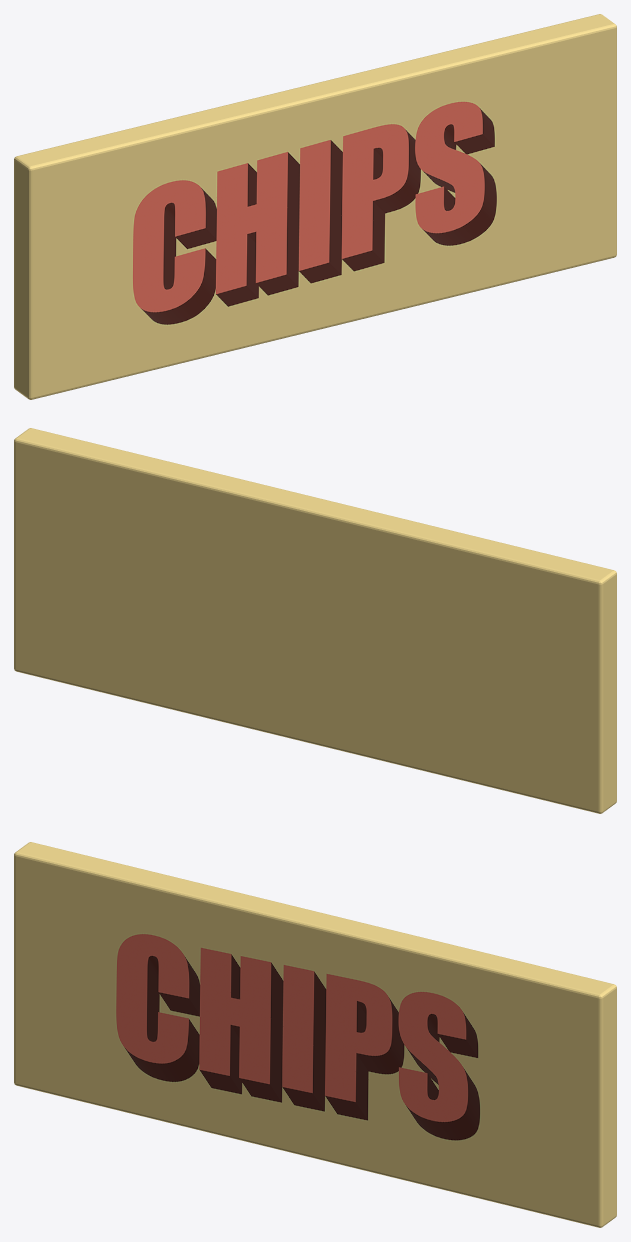
The model's file is chips.fbx.
The picture shows the model from 3 angles, top to bottom: view 1: azimuth 30°, elevation 25°; view 2: azimuth 150°, elevation 25°; view 3: azimuth 330°, elevation 25°; orthographic projection.
Parts seen in each view (by area): view 1: chips; view 2: chips; view 3: chips.
Part boxes in pixels (bbox=[...]): chips: bbox=[14, 14, 616, 399]; chips: bbox=[14, 428, 616, 813]; chips: bbox=[14, 842, 616, 1227].
Bounding box in the file's own units: 102 × 38.8 × 5.
1 material, 1 textured.
